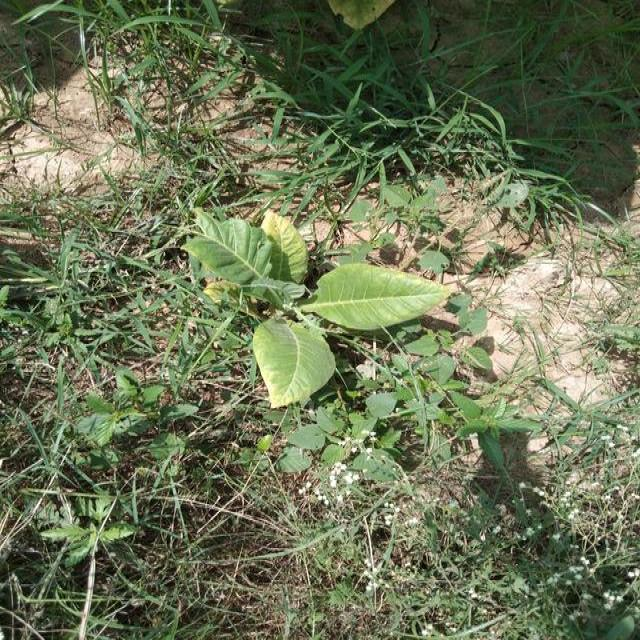crop: (189, 208, 459, 417)
